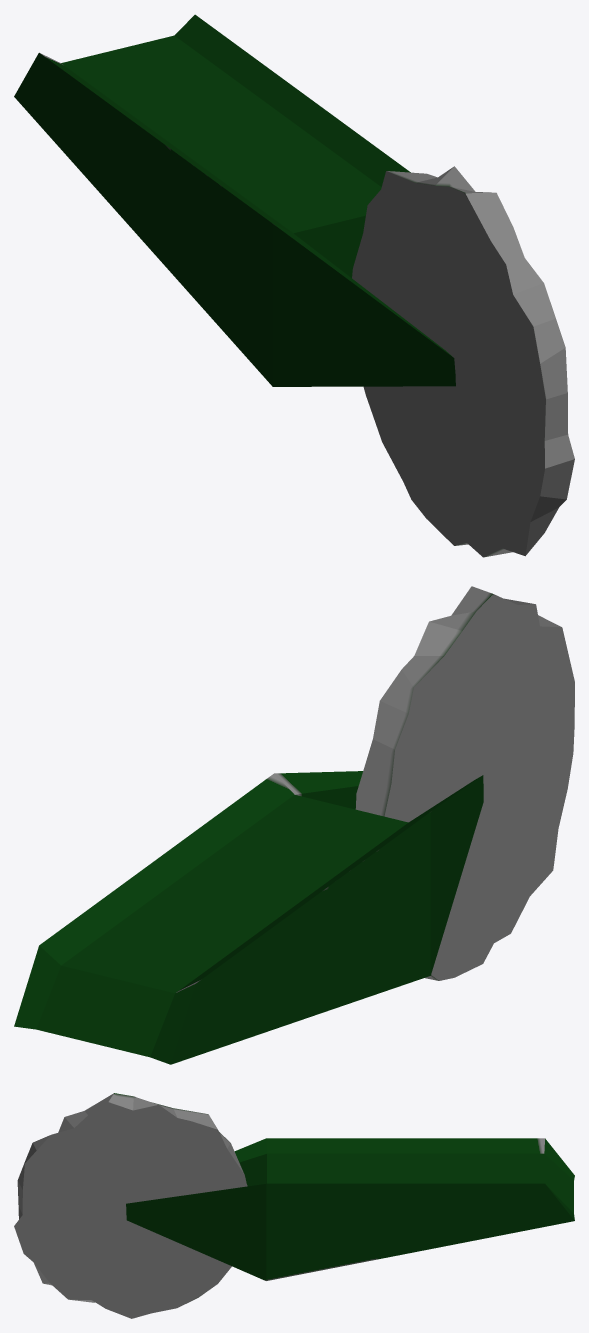
Rendered from Drill.obj.
3 views of the same model, one above another, from view 1: azimuth 30°, elevation 25°; view 2: azimuth 150°, elevation 25°; view 3: azimuth 270°, elevation 25° (orthographic). The views are drawn at different scales.
Parts seen in each view (by area): view 1: Cylinder; view 2: Cylinder; view 3: Cylinder.
Part boxes in pixels (bbox=[...]): Cylinder: bbox=[14, 14, 574, 557]; Cylinder: bbox=[14, 586, 574, 1064]; Cylinder: bbox=[14, 1093, 574, 1318].
Bounding box in the file's own units: 0.5621 × 1.26 × 2.93.
